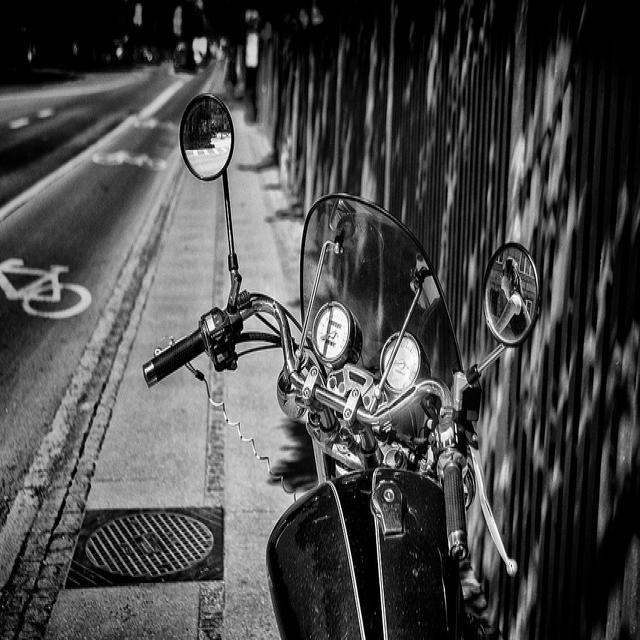motor: (136, 92, 538, 633)
